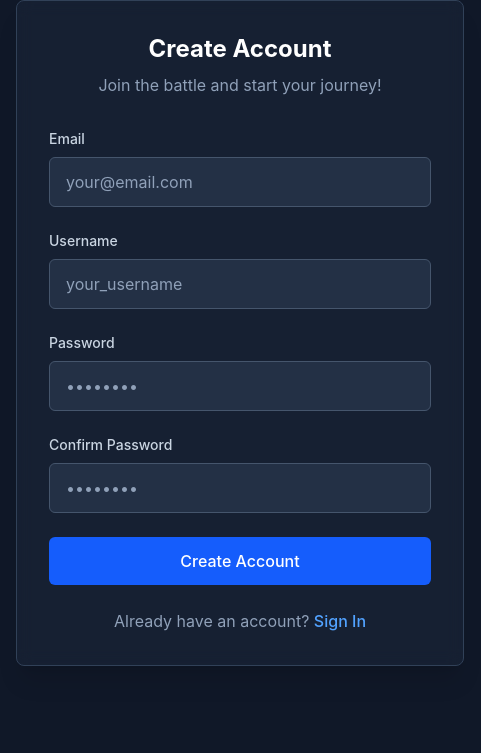
Test: RegisterForm › shows error message on registration failure
In the field labelled "Email": (240, 182) [49,157,431,207], type "test@example.com"
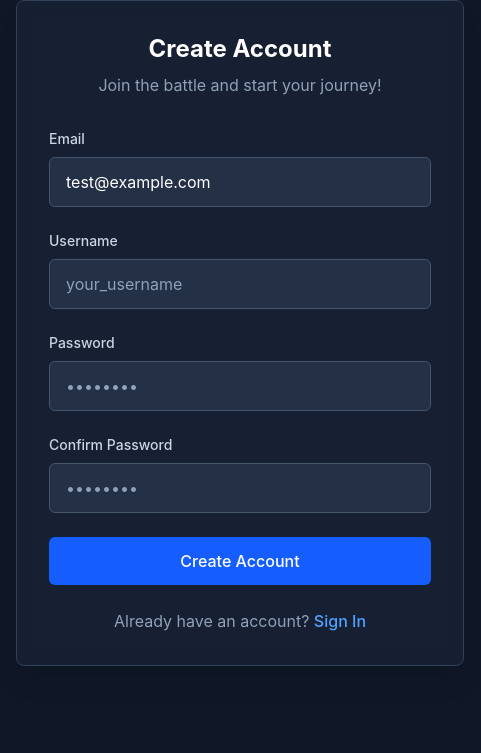
In the field labelled "Username": (240, 284) [49,259,431,309], type "testuser"
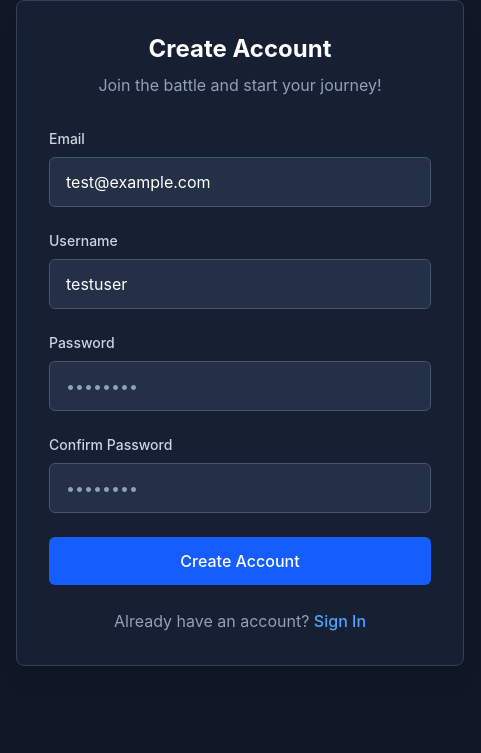
In the password field labelled "Password": (240, 386) [49,361,431,411], type "Password123"
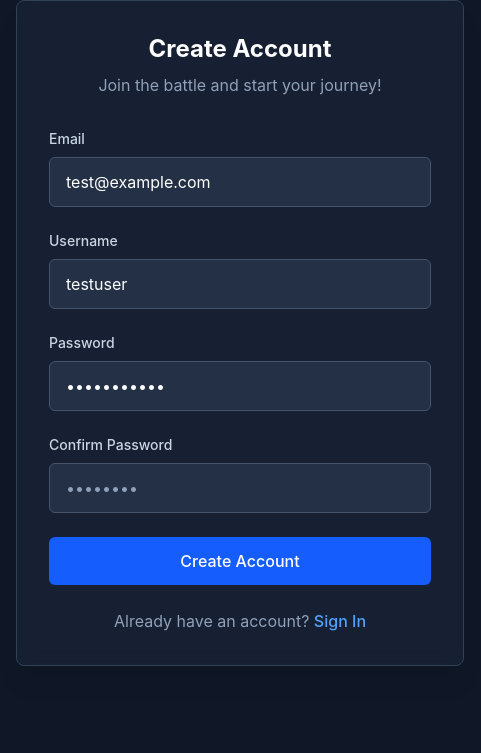
In the password field labelled "Confirm Password": (240, 488) [49,463,431,513], type "Password123"
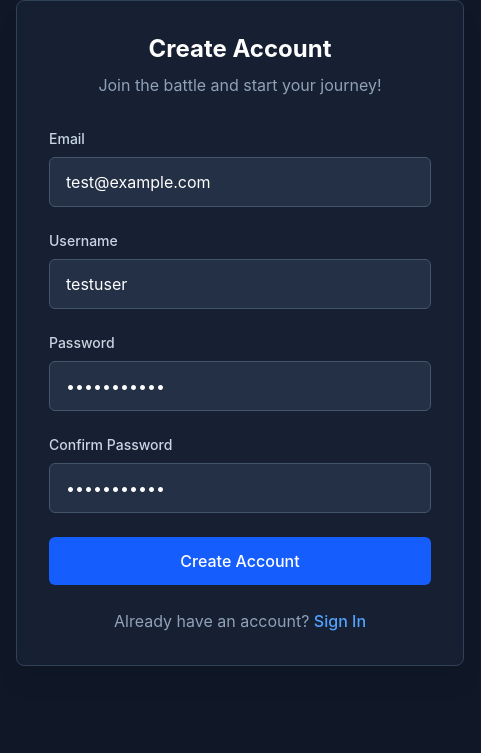
Click the button "Create Account": (240, 561) [49,537,431,585]
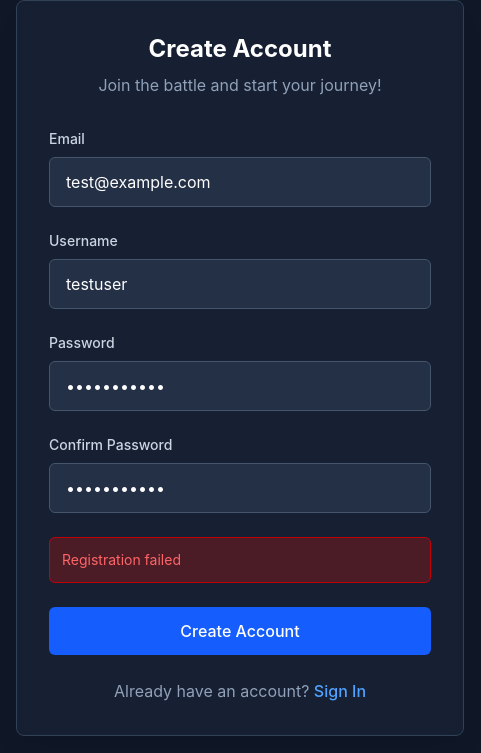
expect the text "Registration failed" is shown: met, box [62,551,181,568]
